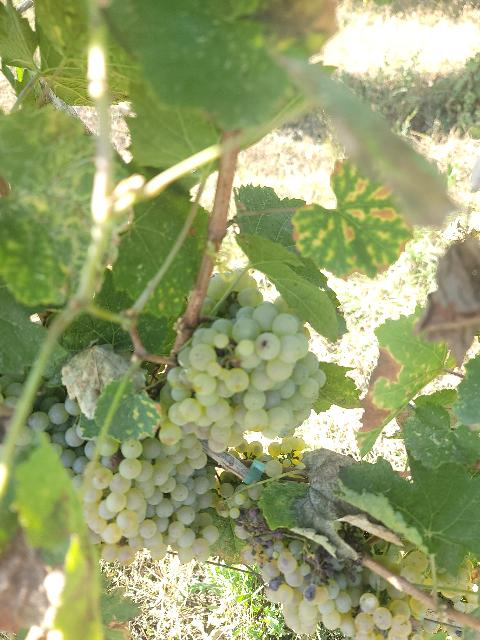grapes: (161, 275, 326, 451), (75, 431, 219, 562), (255, 550, 344, 635)
